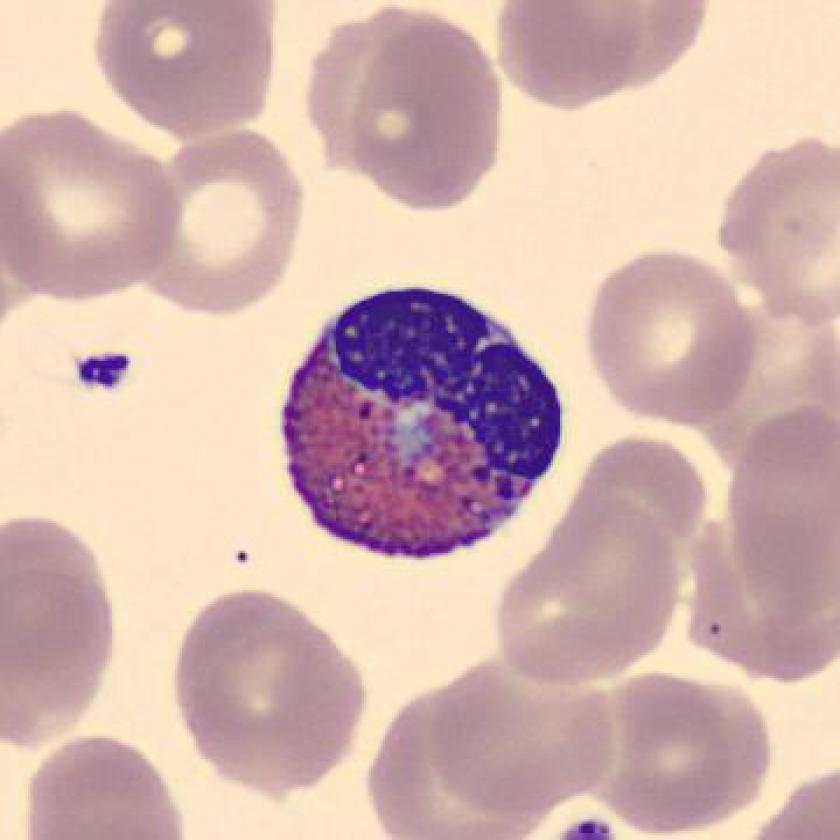eosinophil: (265, 279, 575, 570)
